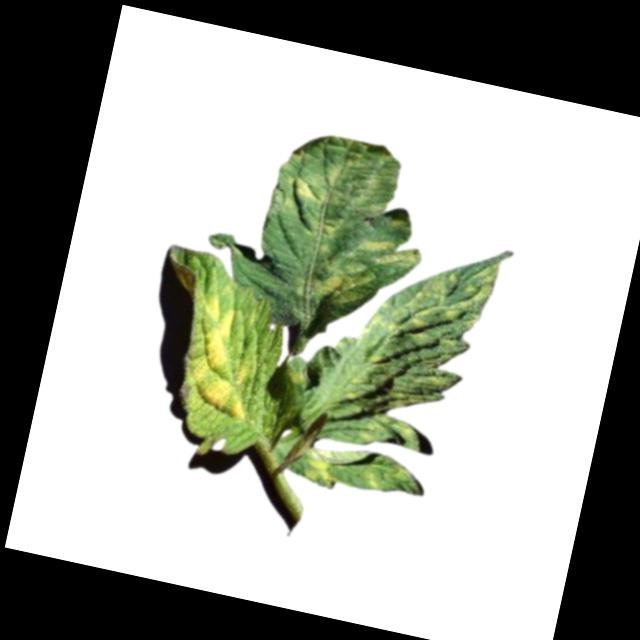Leaf_Mold: (322, 232, 502, 469), (179, 287, 272, 420), (310, 225, 421, 315), (282, 150, 340, 213), (301, 449, 335, 482)
